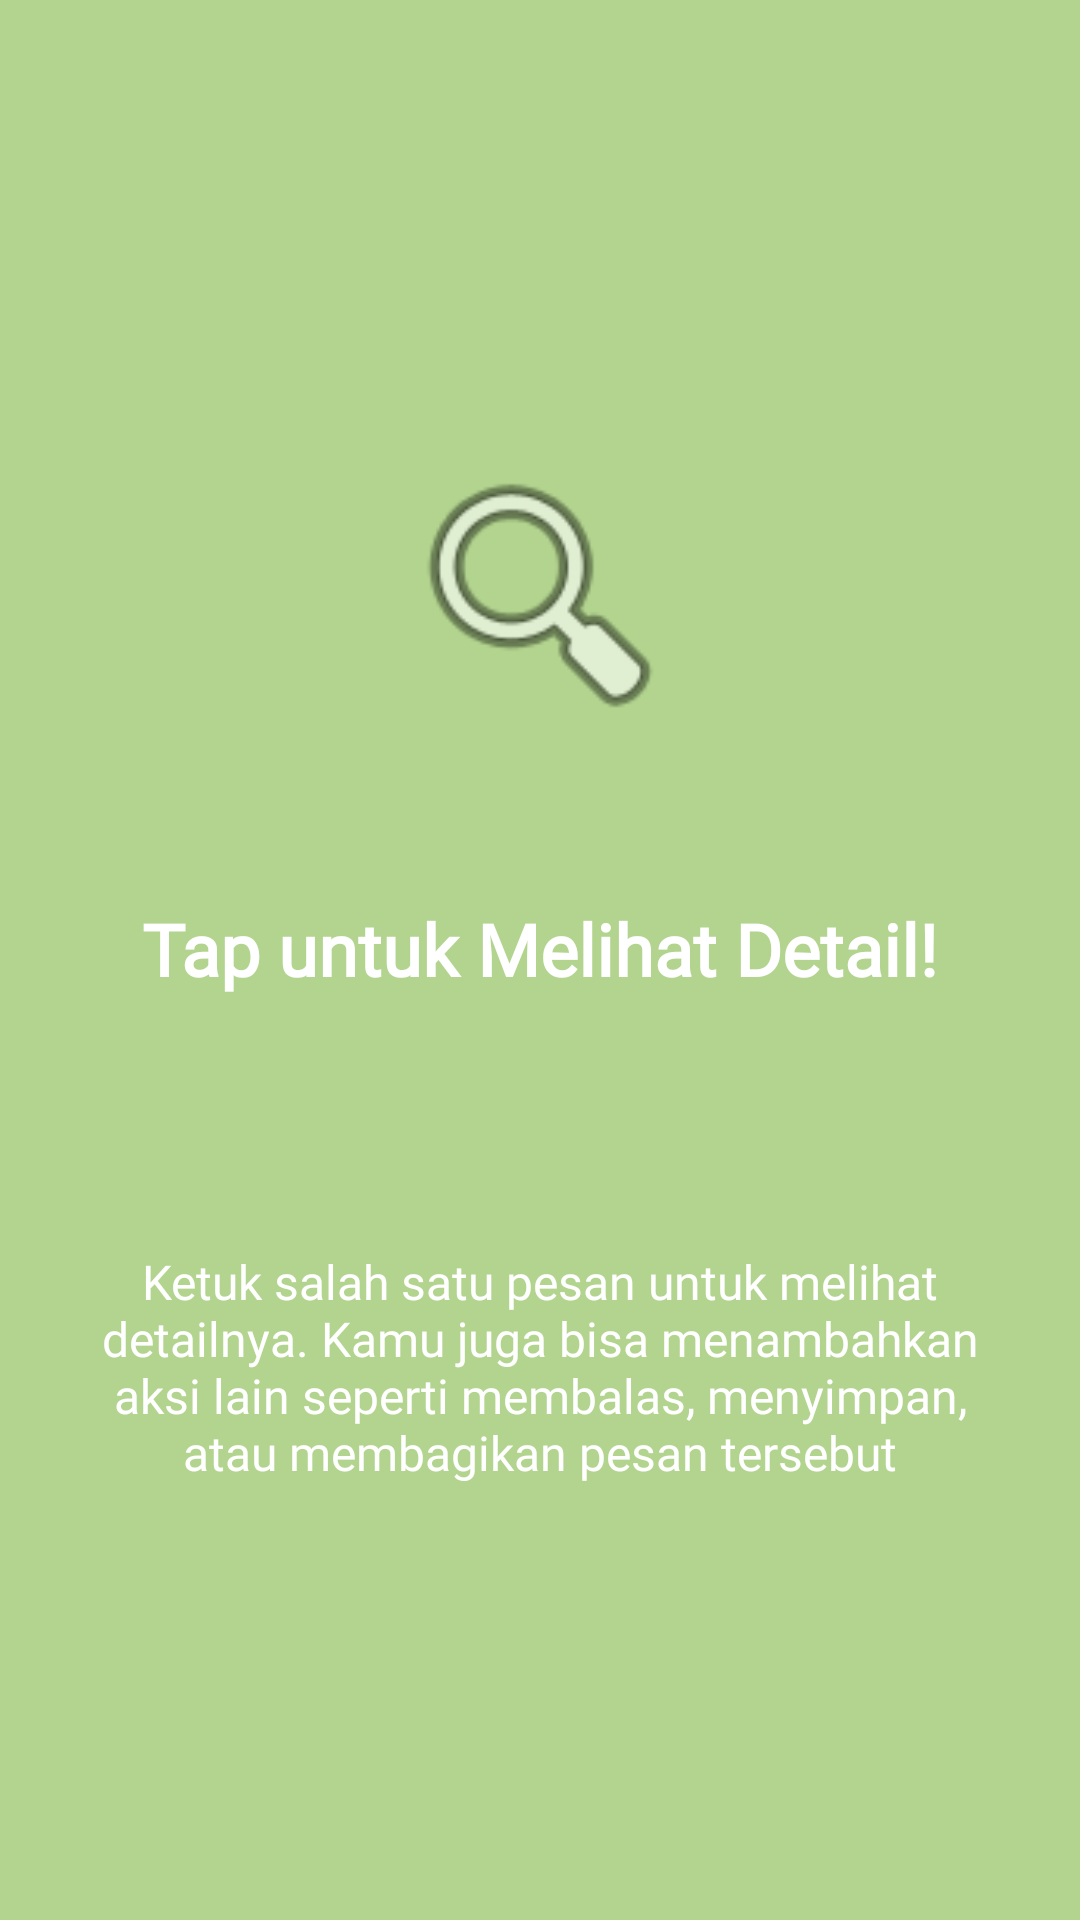

Icons on this 1080px x 1920px Android screen, each with the point to tap as [x,y]:
search: [540,595]
